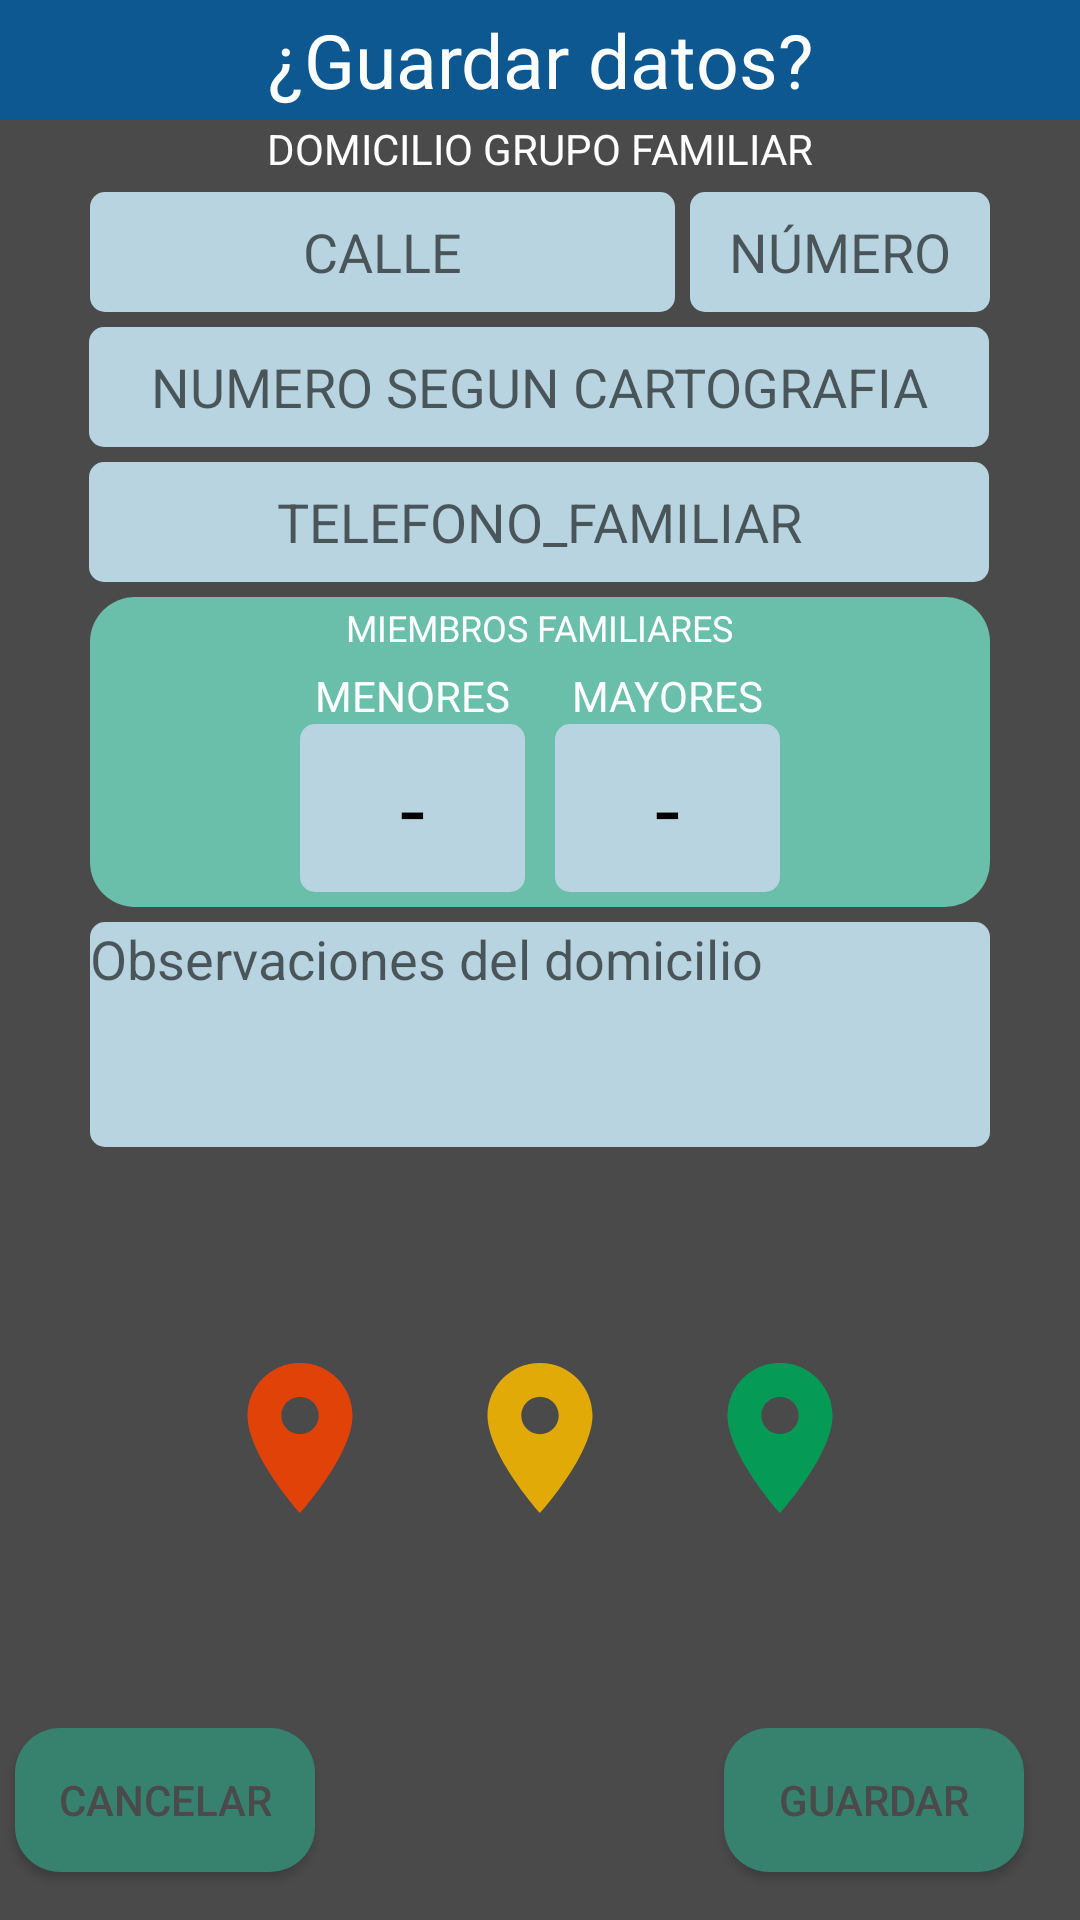

Screen size 1080x1920. Icon name, then its center in pixels as (x,y):
mapa amarilla: (540,1438)
mapa rojo: (300,1438)
mapa verde: (780,1438)
